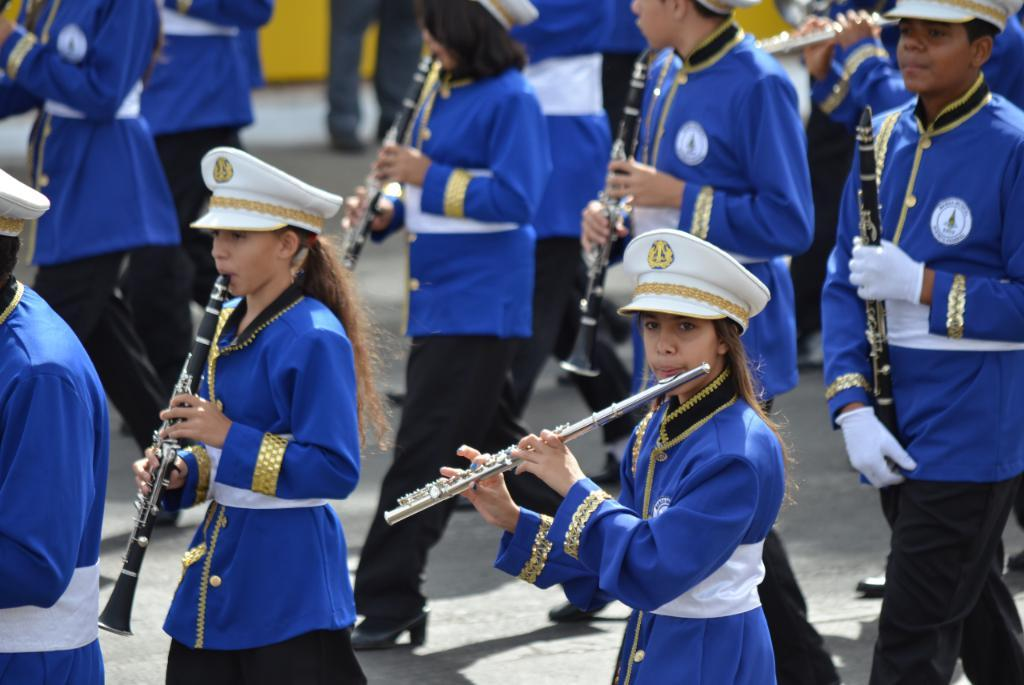Hat: (612, 226, 770, 336), (185, 144, 346, 236), (882, 0, 1022, 33), (0, 164, 49, 238), (478, 0, 535, 28), (696, 0, 762, 17)
